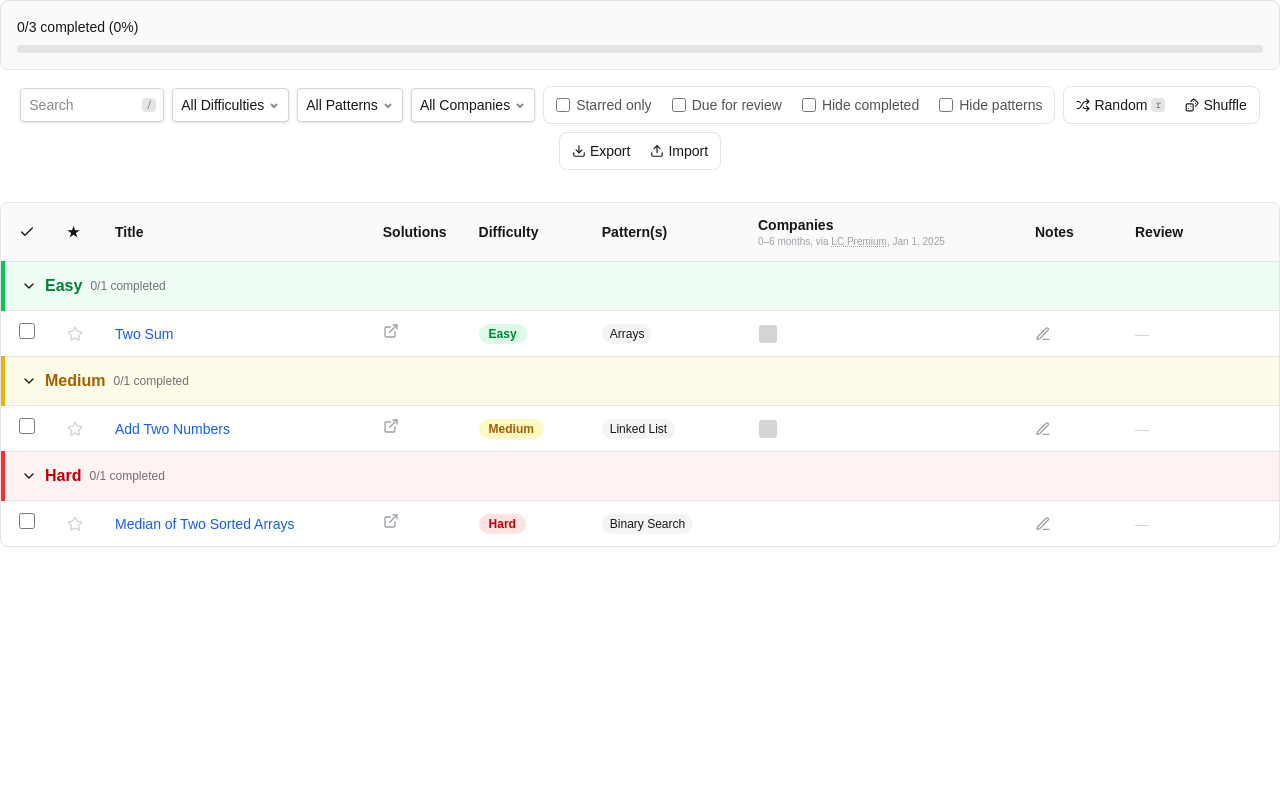
it: QuestionsTable analytics › shows discard confirmation when closing note modal with unsaved changes
Click the button named "Add note for Two Sum".
click(1043, 334)  # box [1035,326,1051,342]
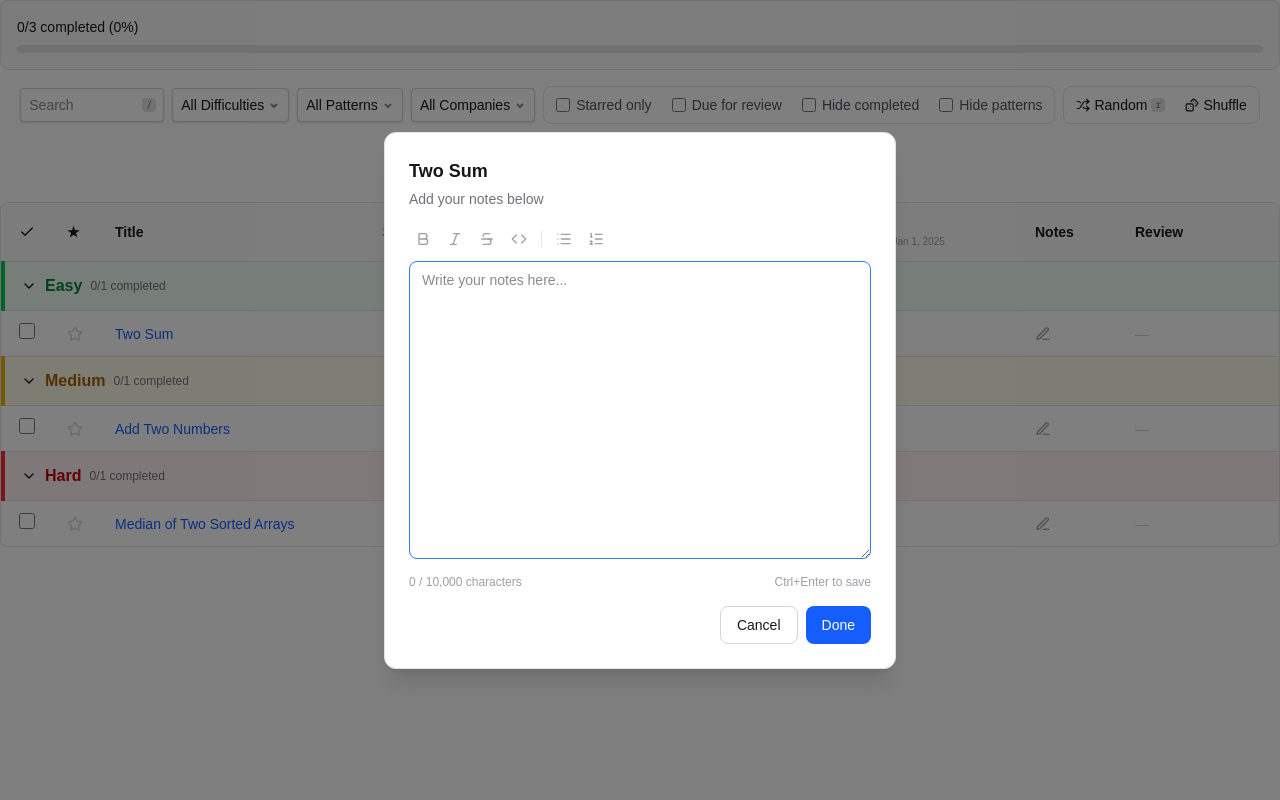
Type "unsaved text" into the text box with placeholder "Write your notes here...".
click(640, 410); type("unsaved text")  # box [409,260,871,558]
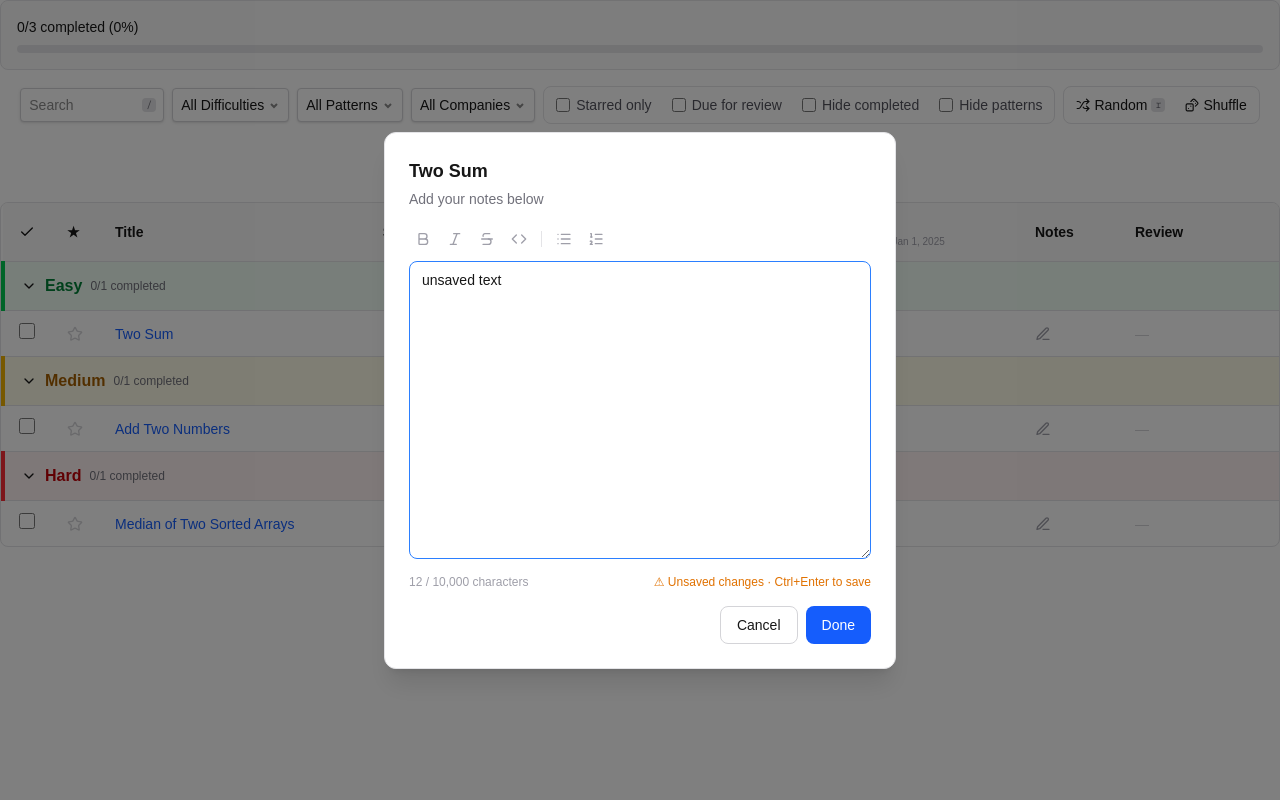
Click the button "Cancel".
click(759, 624)  # box [720,606,798,644]
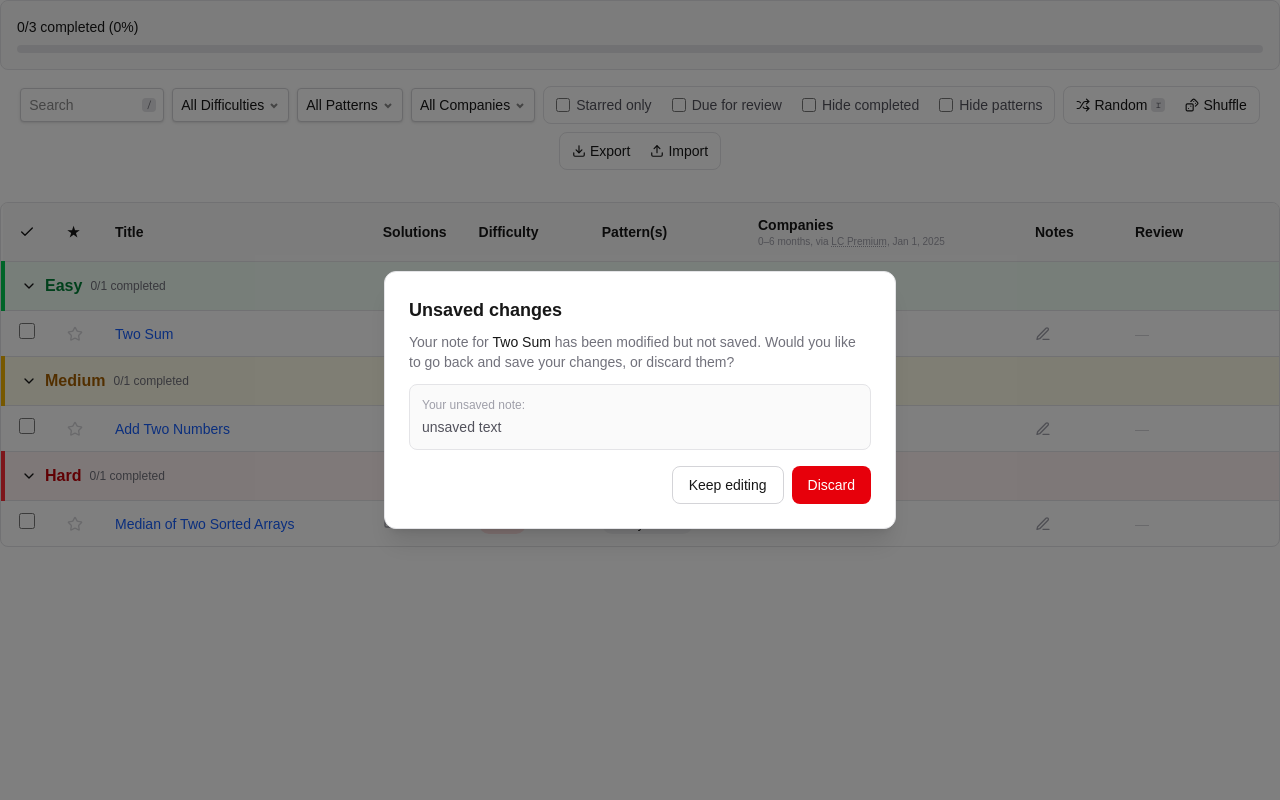
Result: the heading "Unsaved changes" is shown at [409,300,562,320]
Click "Keep editing" to go back
Click the button "Keep editing".
click(728, 485)  # box [672,466,784,504]
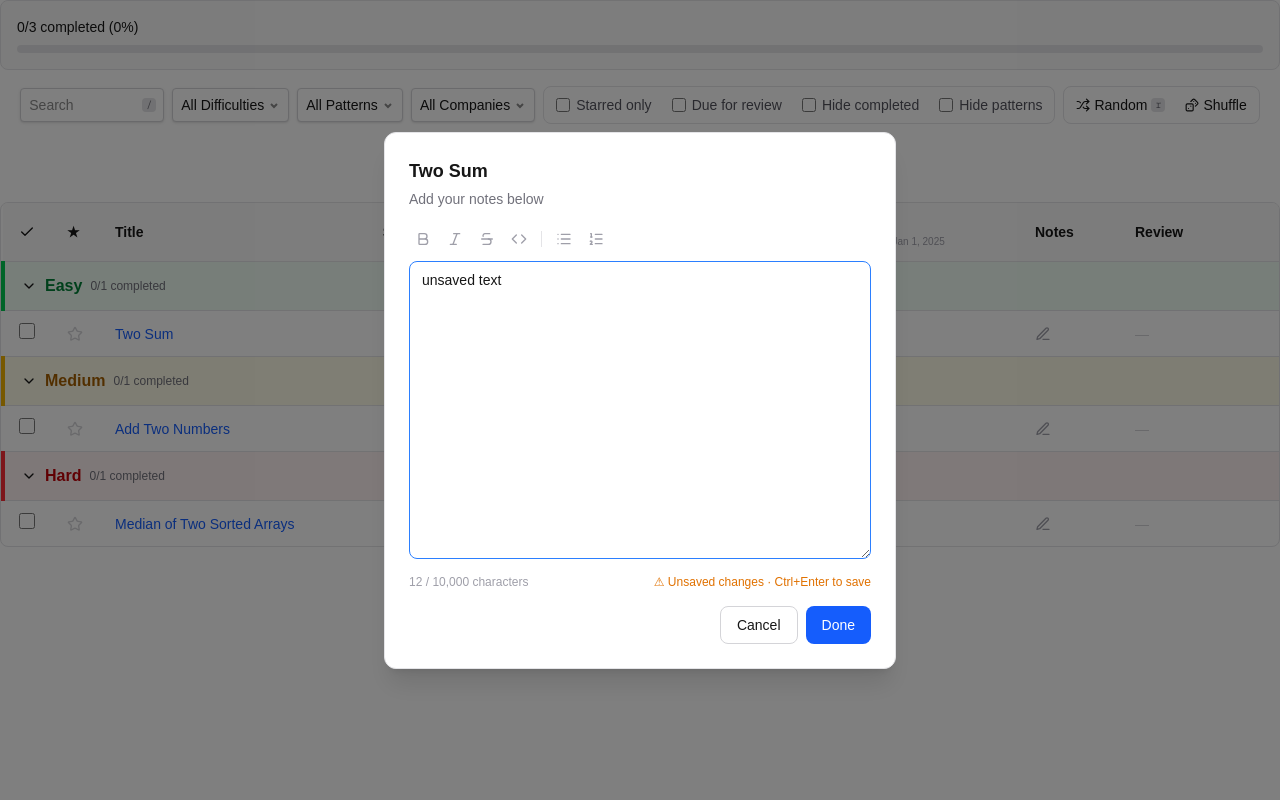
Result: the text box with placeholder "Write your notes here..." is shown at [409,260,871,558]
